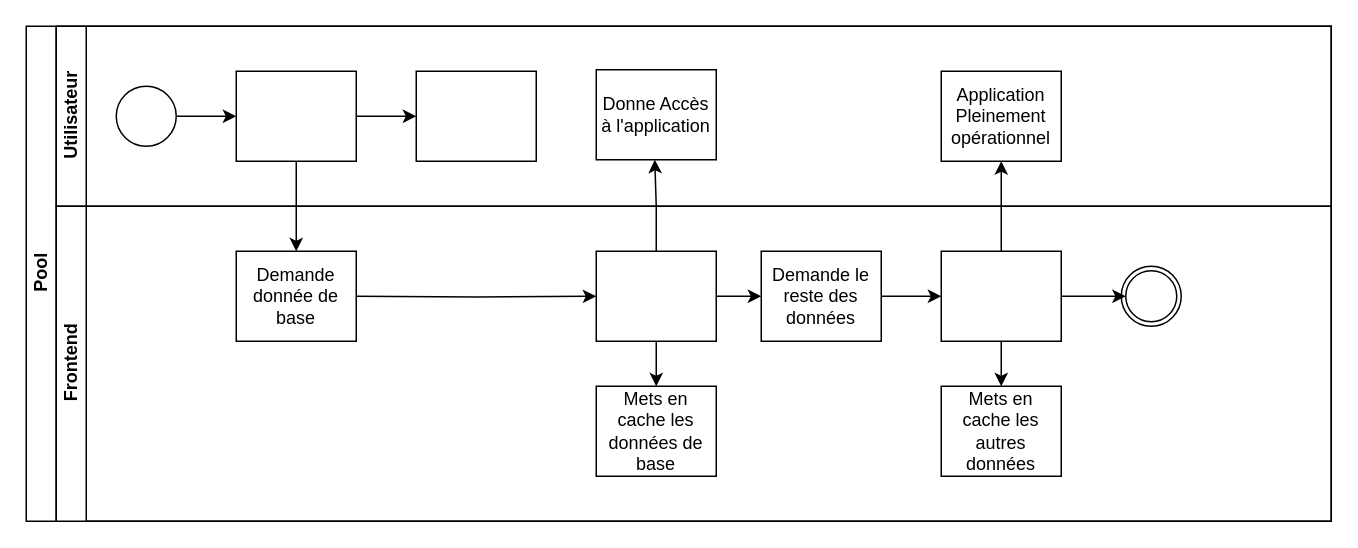
Some shapes in this 1358 by 548 pixel diagram are drawn without their labels. The shapes that lost their labels are listed below. From the top down, each one's centre as x and y in pixels, then its label:
At (295,115): "Demande l'accès à l'application".
At (475,115): "Affiche Ecran de charcgement".
At (655,295): "Reçoit les données de base".
At (1000,295): "Reçoit les autres données".
